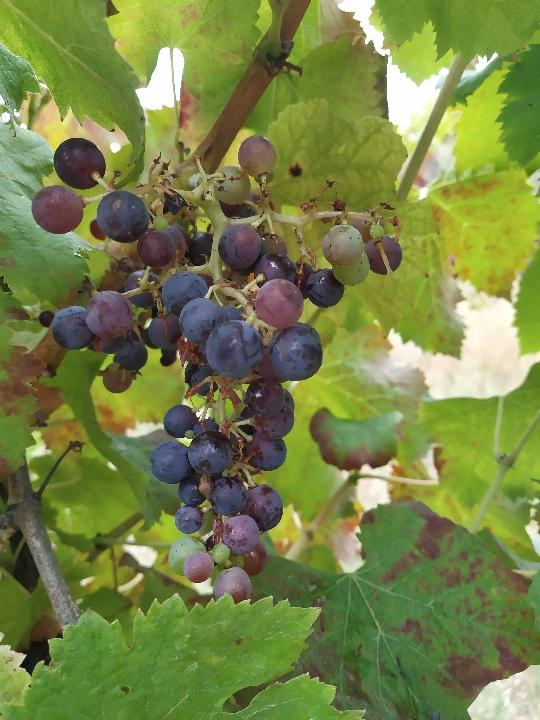grape: (35, 132, 407, 601)
